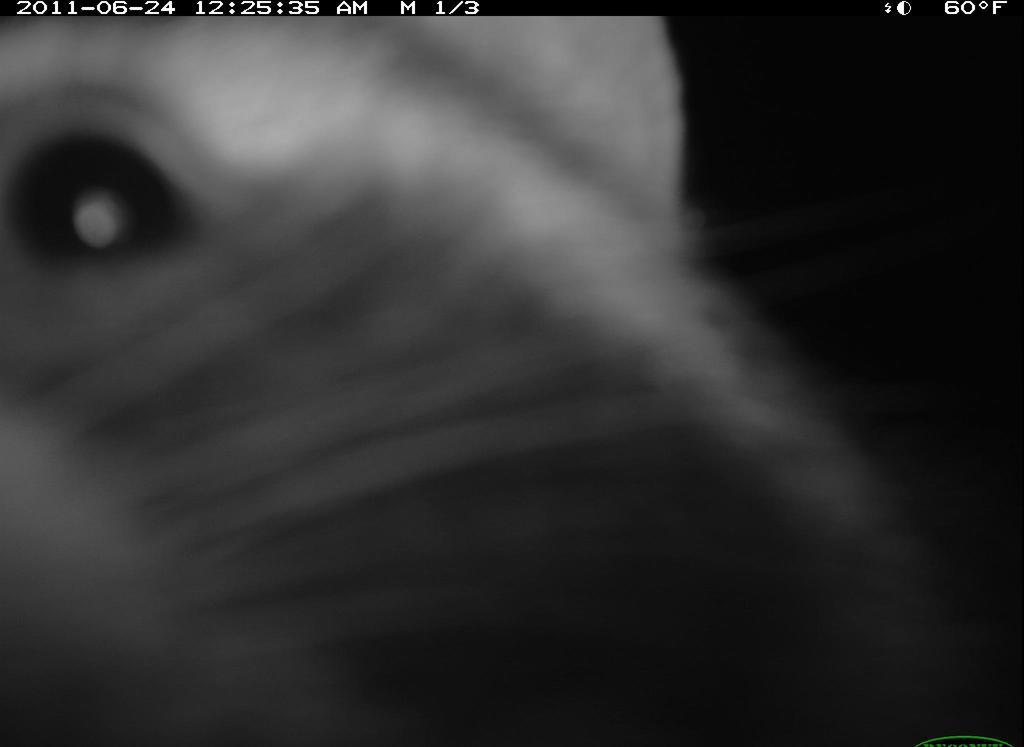raccoon: (3, 8, 918, 747)
